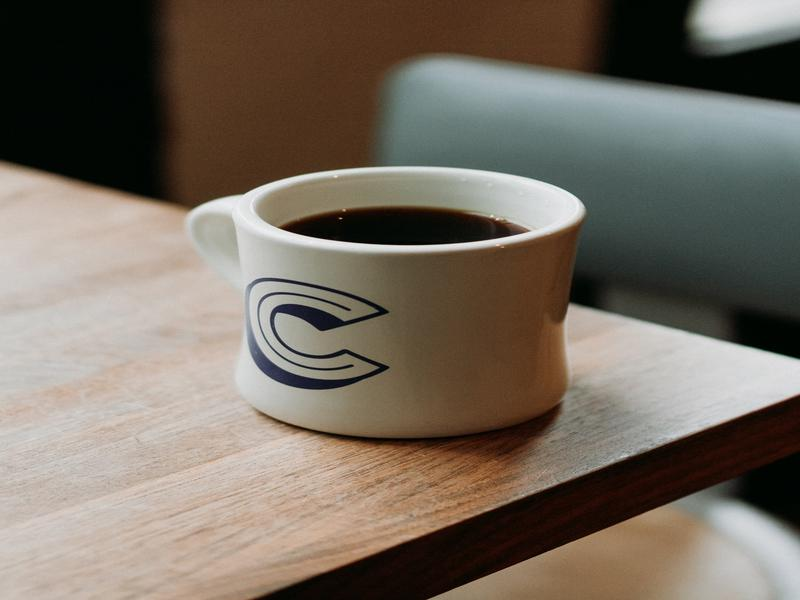cup: (182, 161, 601, 445)
